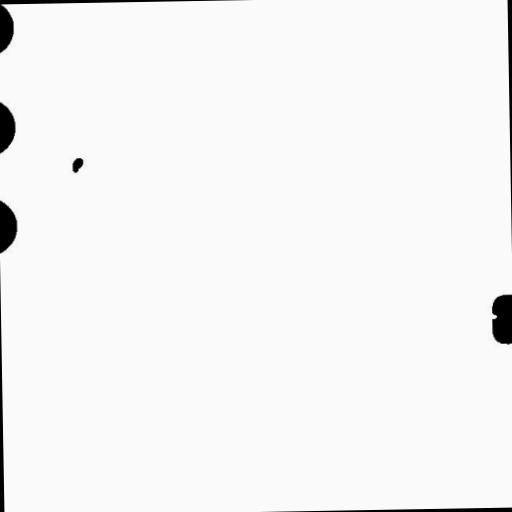copper: (64, 150, 90, 180)
mousebite: (482, 306, 504, 326)
